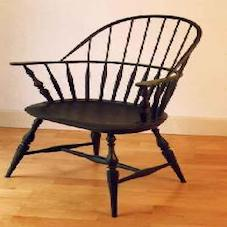chair: (3, 10, 202, 213)
